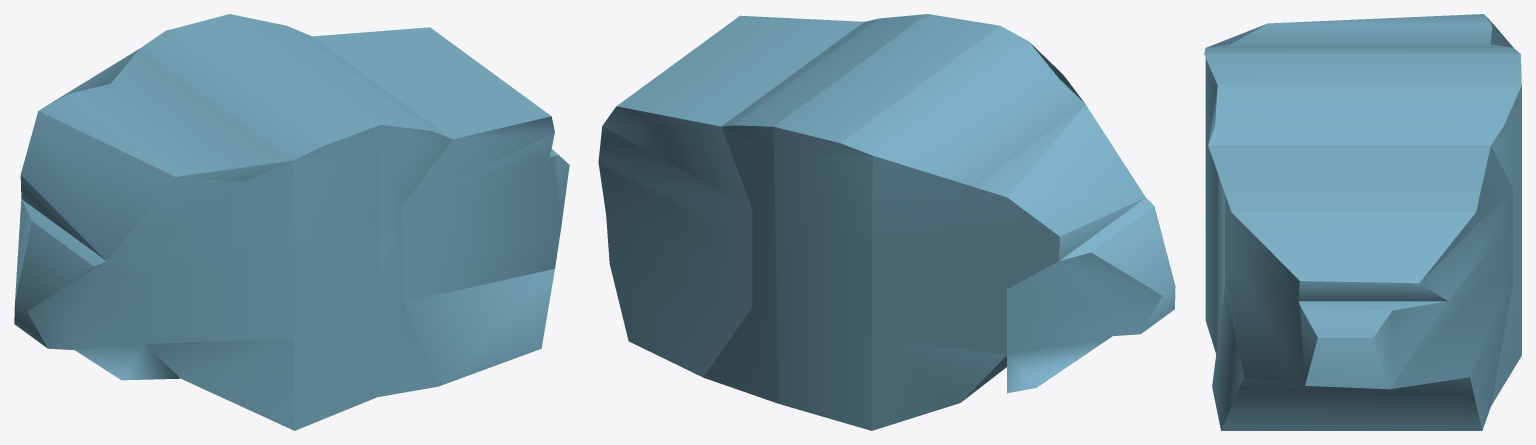
The model's file is Cloud.fbx.
3 renders of one model, left to right at view 1: azimuth 30°, elevation 25°; view 2: azimuth 150°, elevation 25°; view 3: azimuth 270°, elevation 25°, orthographic.
Visible parts, largest first — view 1: test:RoadKillOut1; view 2: test:RoadKillOut1; view 3: test:RoadKillOut1.
Boxes of the visible parts, box(x1,y1,x2,y2) form: test:RoadKillOut1: box(14, 14, 569, 430); test:RoadKillOut1: box(598, 14, 1175, 430); test:RoadKillOut1: box(1204, 14, 1521, 430).
Bounding box in the file's own units: 4.26 × 2.12 × 2.17.
